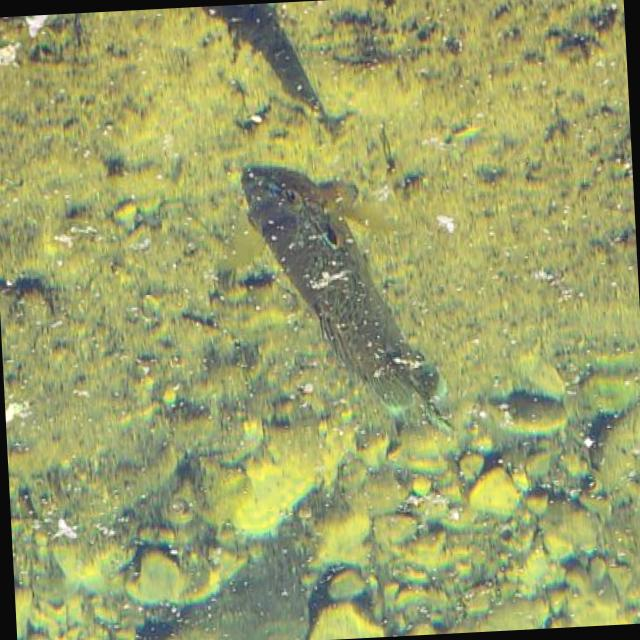Gunes Levregi: (222, 148, 454, 453)
